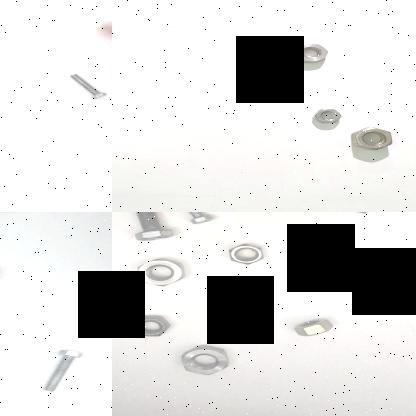Bolts: (39, 345, 84, 395), (123, 212, 176, 243), (66, 70, 112, 102), (159, 212, 213, 226)
NUTS: (126, 253, 188, 290), (177, 342, 237, 376), (219, 240, 274, 270), (342, 124, 395, 154), (123, 312, 175, 340), (210, 294, 268, 318), (288, 313, 340, 339), (286, 42, 331, 64), (310, 266, 348, 290), (310, 106, 342, 127)
